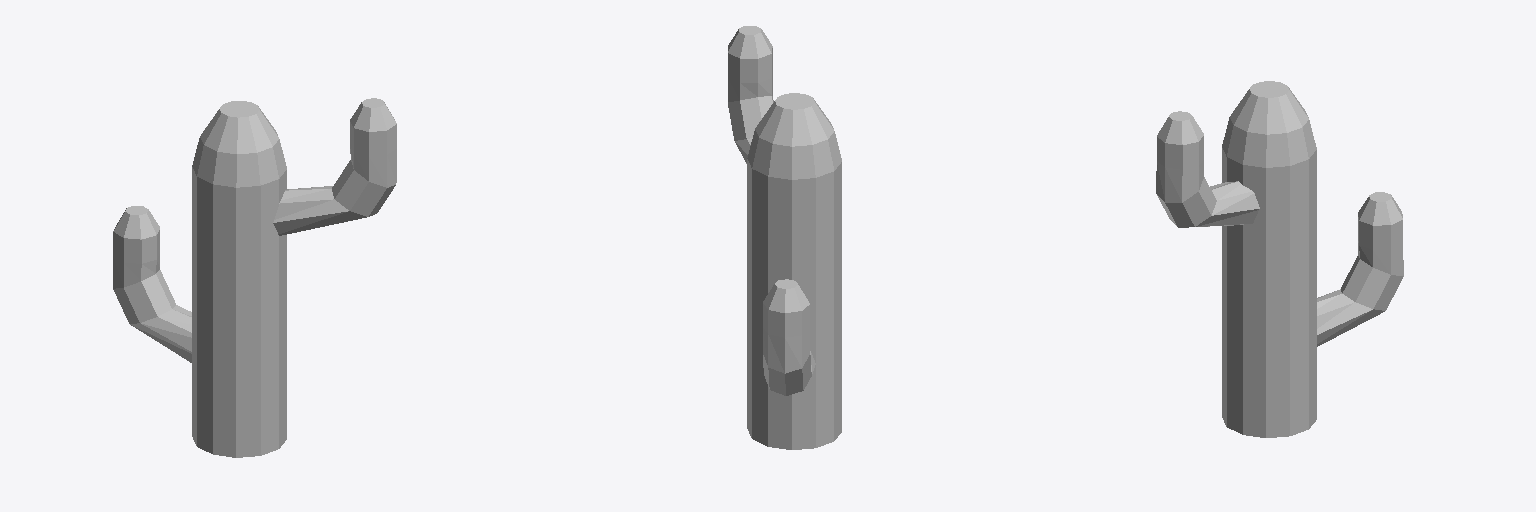
The model's file is cactus_4.obj.
3 views of the same model, side by side, from view 1: azimuth 30°, elevation 25°; view 2: azimuth 150°, elevation 25°; view 3: azimuth 270°, elevation 25° (orthographic).
Parts seen in each view (by area): view 1: cactus2; view 2: cactus2; view 3: cactus2.
Boxes of the visible parts, x1=… form: cactus2: x1=113, y1=98, x2=396, y2=457; cactus2: x1=728, y1=26, x2=841, y2=449; cactus2: x1=1156, y1=81, x2=1403, y2=437.
Bounding box in the file's own units: 2.58 × 4.8 × 3.11.